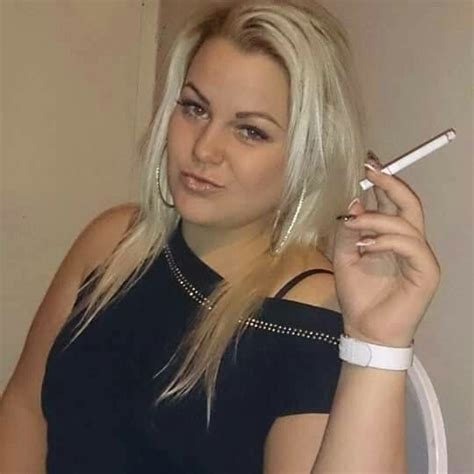cigarette: (359, 126, 458, 191)
